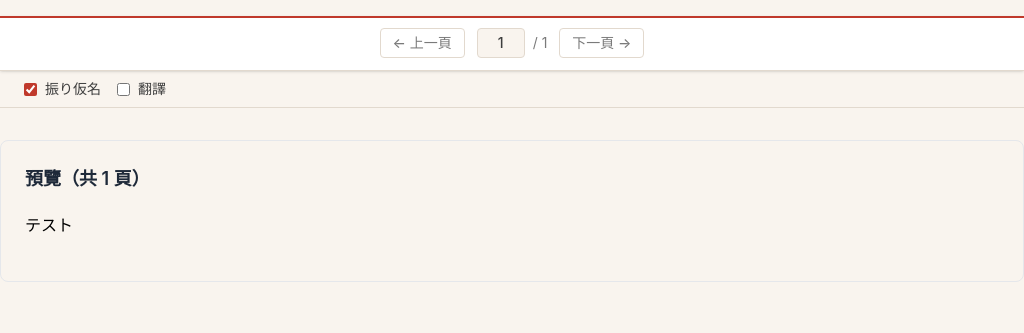
Test: PagedPreview cachedTranslations › cachedTranslations 有資料時點翻譯不呼叫 API
This screenshot has width=1024, height=333.
Click the checkbox labelled "翻譯" at point(124, 89), box [117,82,130,96]
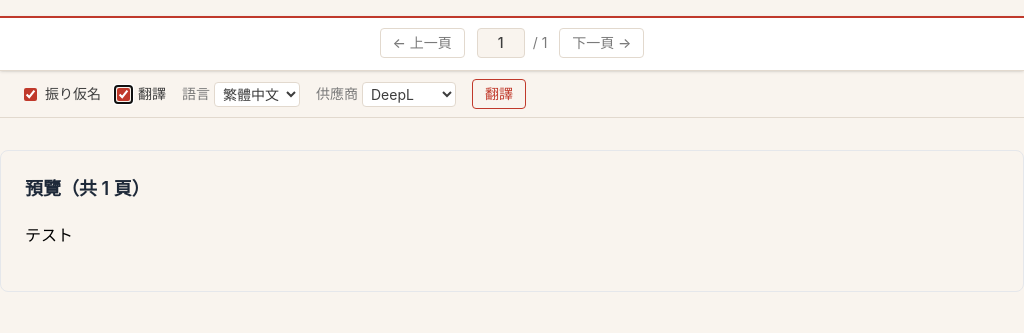
Click the button "翻譯" at point(499, 94), box [472,79,526,109]
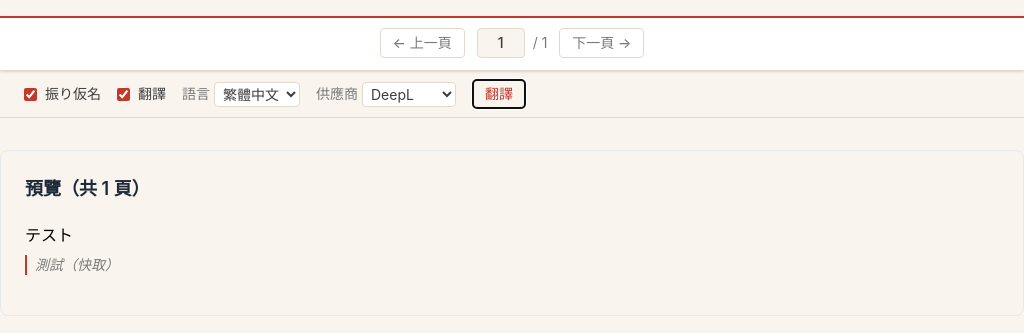
Expected: the text "測試（快取）" is shown, [25,255,999,275]
